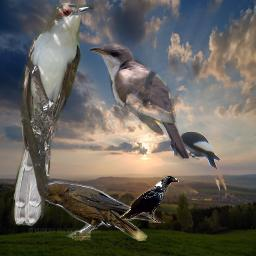Crow: (28, 180, 155, 241), (119, 175, 179, 223)
Cuckoo: (11, 0, 95, 226), (87, 40, 189, 163)
Woodpecker: (168, 130, 222, 170)
